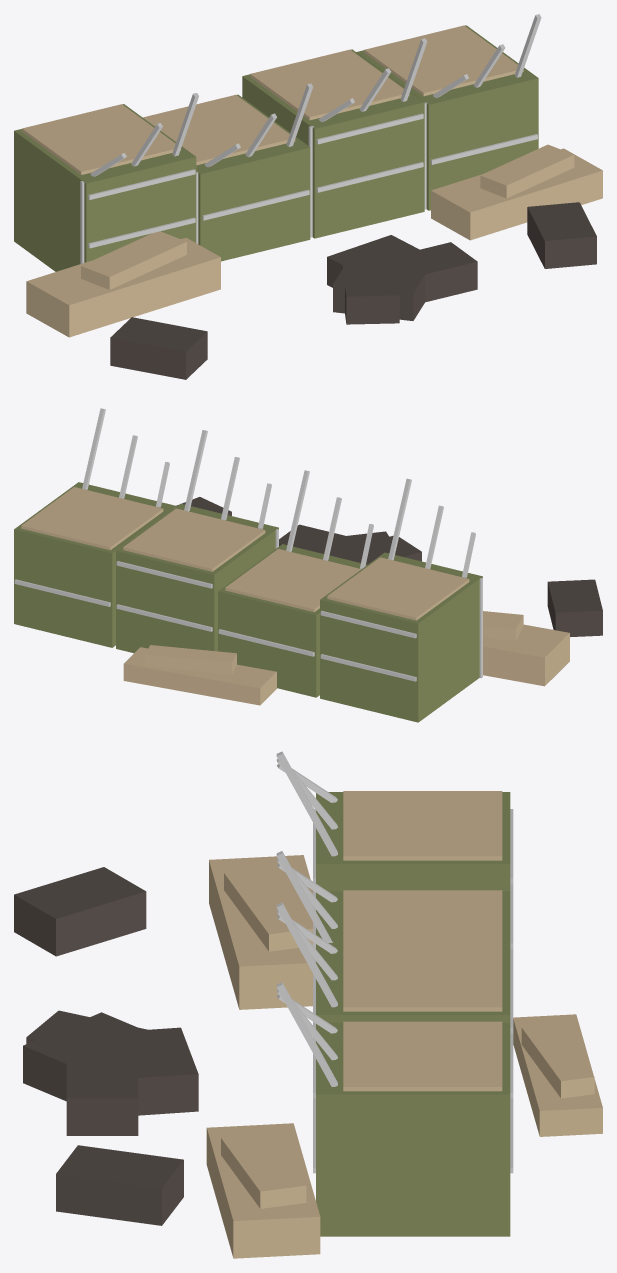
File: SM_HescoCorto4_v2_Escalonado_e2_MuyDanado_LOD0.fbx
3 views of the same model, one above another, from view 1: azimuth 30°, elevation 25°; view 2: azimuth 150°, elevation 25°; view 3: azimuth 270°, elevation 25° (orthographic). The views are drawn at different scales.
Visible parts, largest first — view 1: SM_hesco_piezas_v110_LOD0; view 2: SM_hesco_piezas_v110_LOD0; view 3: SM_hesco_piezas_v110_LOD0.
Boxes of the visible parts, bbox=[...] form: SM_hesco_piezas_v110_LOD0: bbox=[14, 14, 602, 379]; SM_hesco_piezas_v110_LOD0: bbox=[14, 408, 602, 722]; SM_hesco_piezas_v110_LOD0: bbox=[14, 751, 602, 1258].
Size of the model in its own units: 5.36 by 1.74 by 3.7.
